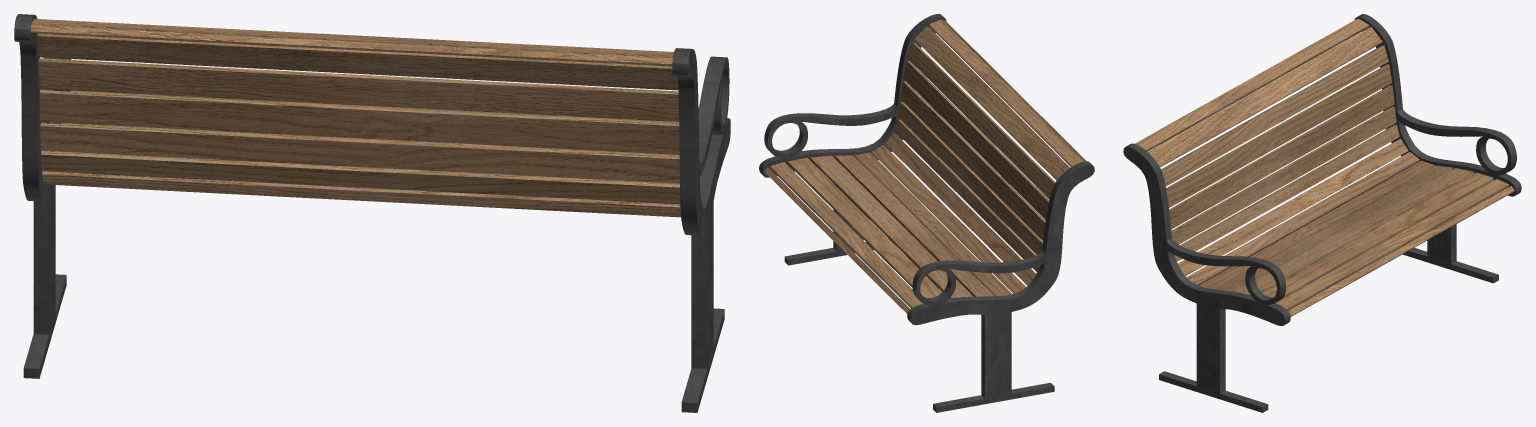
Rendered from Bank.obj.
3 views of the same model, side by side, from view 1: azimuth 30°, elevation 25°; view 2: azimuth 150°, elevation 25°; view 3: azimuth 270°, elevation 25° (orthographic). The views are drawn at different scales.
Visible parts, largest first — view 1: pasted__polySurface86 group7; view 2: pasted__polySurface86 group7; view 3: pasted__polySurface86 group7.
Part boxes in pixels (bbox=[...]): pasted__polySurface86 group7: bbox=[14, 14, 730, 412]; pasted__polySurface86 group7: bbox=[759, 14, 1094, 412]; pasted__polySurface86 group7: bbox=[1123, 14, 1521, 412].
Size of the model in its own units: 1.45 by 0.8191 by 1.32.
Materials: 2 (2 with a texture image).
